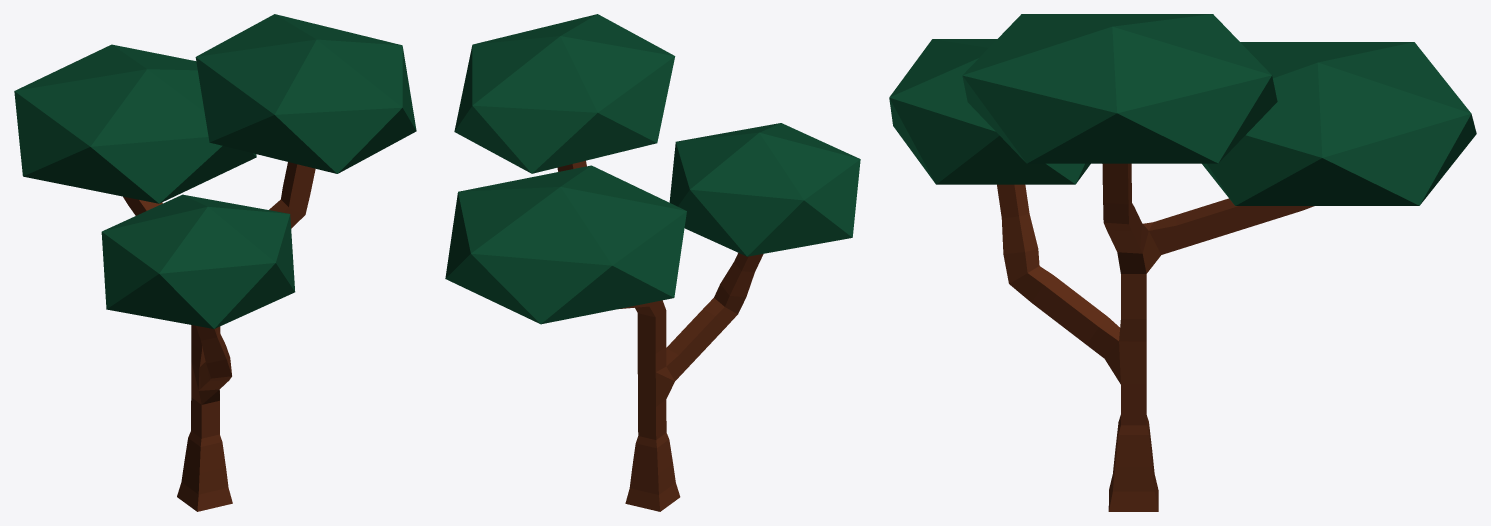
File: treeeeeeeeeeeeee.fbx
3 views of the same model, side by side, from view 1: azimuth 30°, elevation 25°; view 2: azimuth 150°, elevation 25°; view 3: azimuth 270°, elevation 25° (orthographic). The views are drawn at different scales.
Visible parts, largest first — view 1: 아이코스피어.001, 아이코스피어, 아이코스피어.002, 큐브; view 2: 아이코스피어, 아이코스피어.001, 아이코스피어.002, 큐브; view 3: 아이코스피어.001, 아이코스피어, 큐브, 아이코스피어.002.
Boxes of the visible parts, left/top/right/bottom form: 아이코스피어.001: left=195, top=14, right=416, bottom=173; 아이코스피어: left=14, top=44, right=256, bottom=203; 아이코스피어.002: left=101, top=194, right=295, bottom=328; 큐브: left=123, top=162, right=315, bottom=511; 아이코스피어: left=445, top=165, right=686, bottom=324; 아이코스피어.001: left=454, top=14, right=675, bottom=173; 아이코스피어.002: left=669, top=123, right=860, bottom=256; 큐브: left=557, top=160, right=763, bottom=511; 아이코스피어.001: left=962, top=14, right=1277, bottom=163; 아이코스피어: left=1202, top=42, right=1476, bottom=205; 큐브: left=997, top=163, right=1314, bottom=511; 아이코스피어.002: left=889, top=39, right=1090, bottom=184.
Size of the model in its own units: 609 by 753 by 748.
